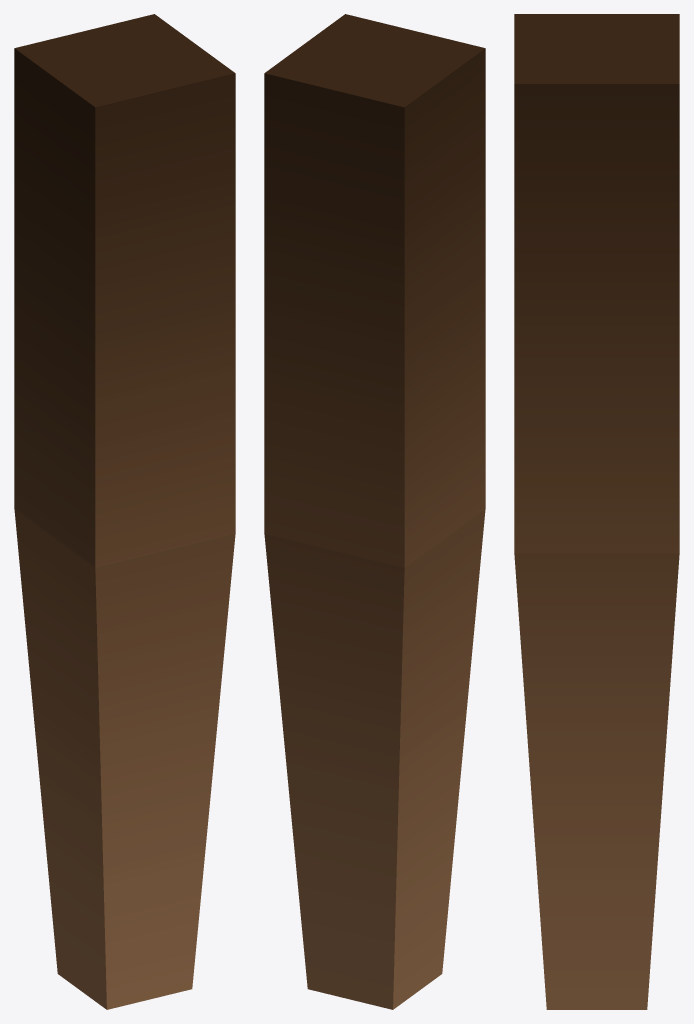
File: Torch_01.fbx
The picture shows the model from 3 angles, left to right: view 1: azimuth 30°, elevation 25°; view 2: azimuth 150°, elevation 25°; view 3: azimuth 270°, elevation 25°; orthographic projection. The views are drawn at different scales.
Parts seen in each view (by area): view 1: Cube.012; view 2: Cube.012; view 3: Cube.012.
Part boxes in pixels (x1,y1,x2,y2): Cube.012: [14, 14, 235, 1009]; Cube.012: [264, 14, 485, 1009]; Cube.012: [514, 14, 679, 1009].
Bounding box in the file's own units: 20.34 × 128 × 20.34.
Materials: 1 (1 with a texture image).
